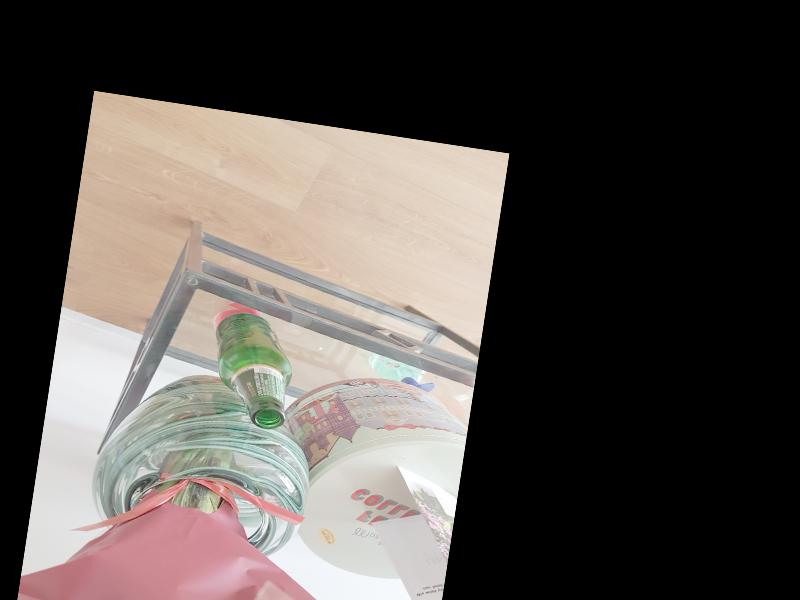Beer: (201, 309, 300, 431)
